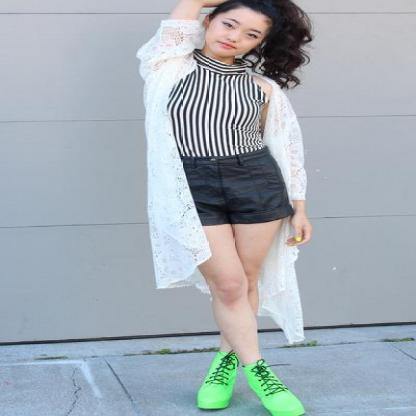jacket: (137, 18, 306, 340)
shirt: (170, 49, 272, 156)
shoe: (198, 350, 304, 415)
shorts: (178, 141, 294, 226)
